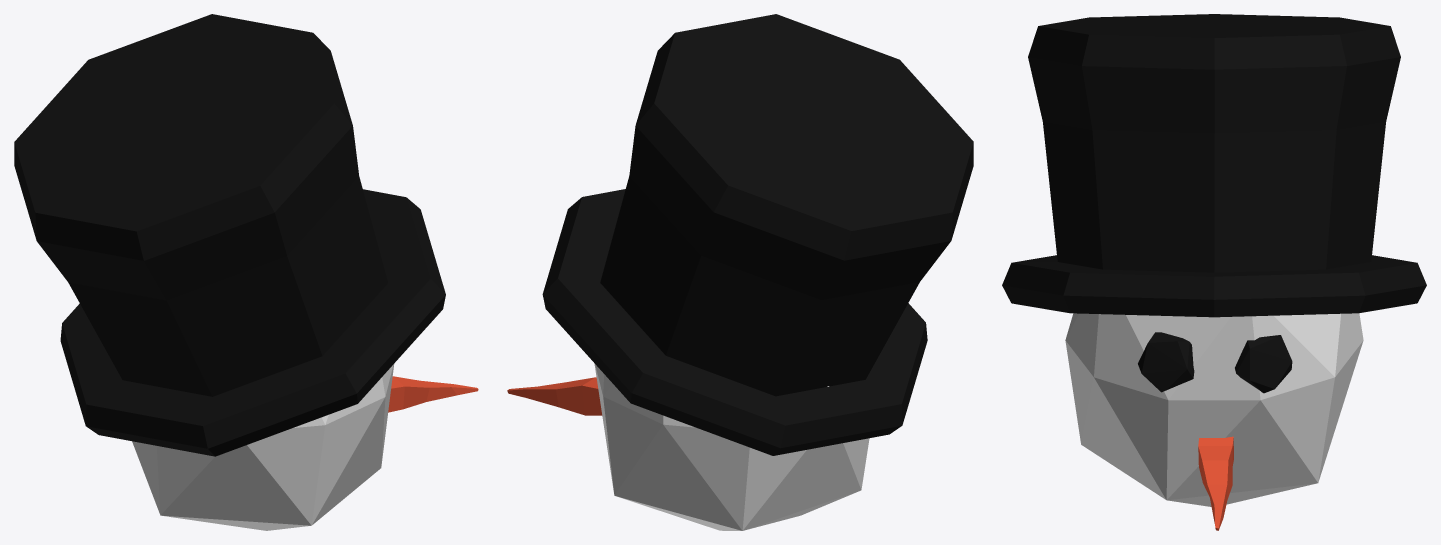
File: snowmanHead.fbx
The picture shows the model from 3 angles, left to right: view 1: azimuth 30°, elevation 25°; view 2: azimuth 150°, elevation 25°; view 3: azimuth 270°, elevation 25°; orthographic projection. The views are drawn at different scales.
Visible parts, largest first — view 1: Cube, Icosphere, Cube.003; view 2: Cube, Icosphere, Cube.003; view 3: Cube, Icosphere, Icosphere.002, Icosphere.001, Cube.003.
Boxes of the visible parts, x1=… form: Cube: x1=14, y1=14, x2=445, y2=456; Icosphere: x1=132, y1=364, x2=394, y2=530; Cube.003: x1=388, y1=376, x2=478, y2=412; Cube: x1=542, y1=14, x2=973, y2=455; Icosphere: x1=594, y1=363, x2=869, y2=530; Cube.003: x1=507, y1=377, x2=602, y2=415; Cube: x1=1002, y1=14, x2=1426, y2=317; Icosphere: x1=1065, y1=313, x2=1363, y2=506; Icosphere.002: x1=1138, y1=332, x2=1194, y2=392; Icosphere.001: x1=1235, y1=335, x2=1292, y2=393; Cube.003: x1=1198, y1=436, x2=1233, y2=530.
Size of the model in its own units: 367 by 361 by 297.
